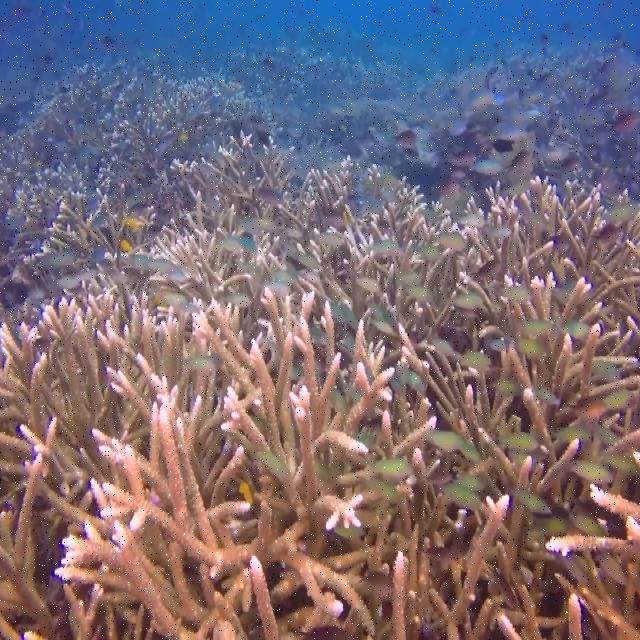reefs: (0, 50, 639, 639)
